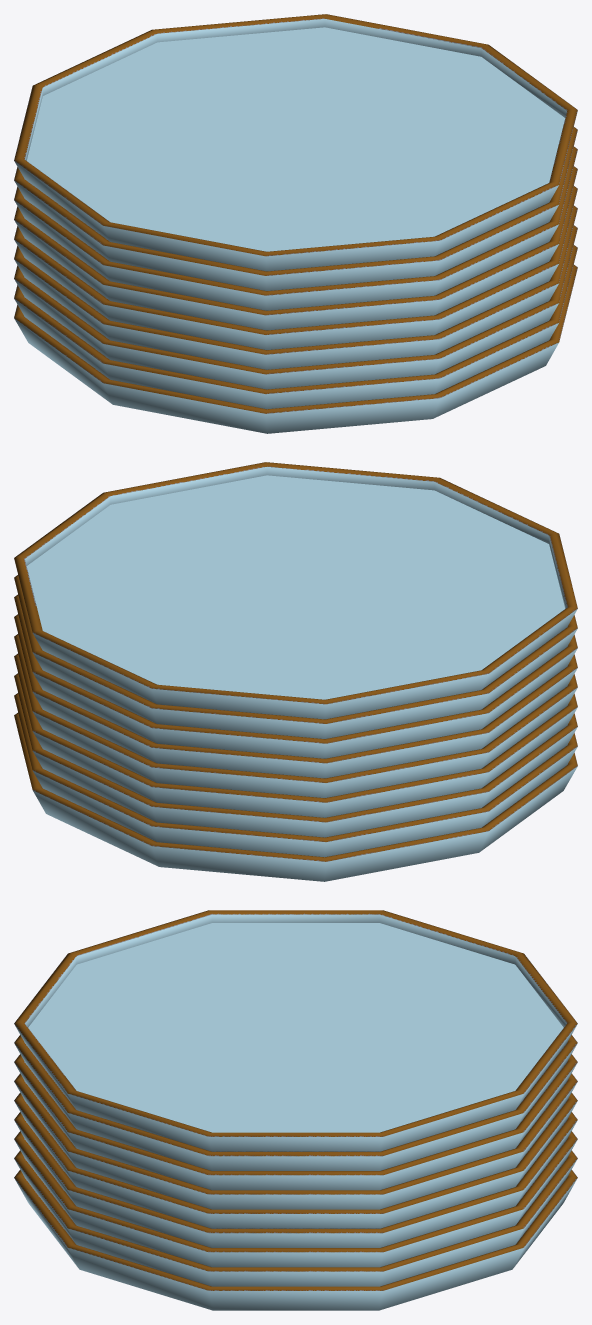
The model's file is platos7.glb.
The picture shows the model from 3 angles, top to bottom: view 1: azimuth 30°, elevation 25°; view 2: azimuth 150°, elevation 25°; view 3: azimuth 270°, elevation 25°; orthographic projection. The views are drawn at different scales.
Parts seen in each view (by area): view 1: plato7; view 2: plato7; view 3: plato7.
Part boxes in pixels (x1,y1,x2,y2): plato7: (14,14,577,433); plato7: (14,462,577,881); plato7: (14,910,577,1310).
Bounding box in the file's own units: 2.7 × 1.01 × 2.84.
2 materials, 1 textured.
